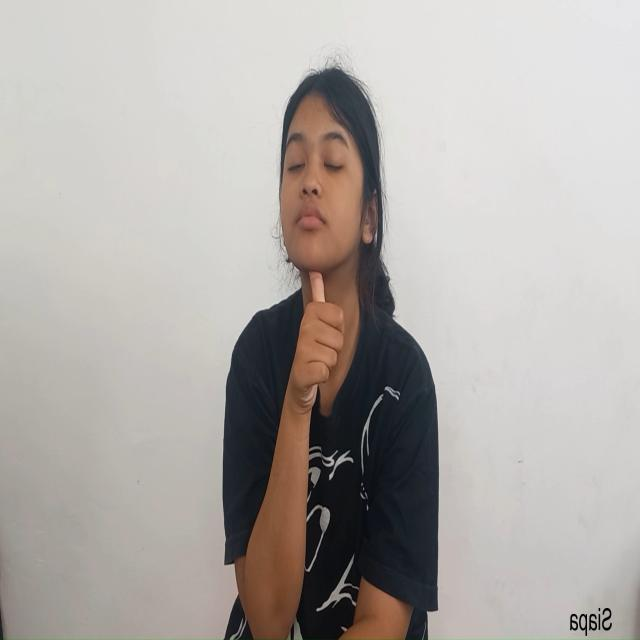Siapa -BISINDO-: (268, 51, 399, 442)
